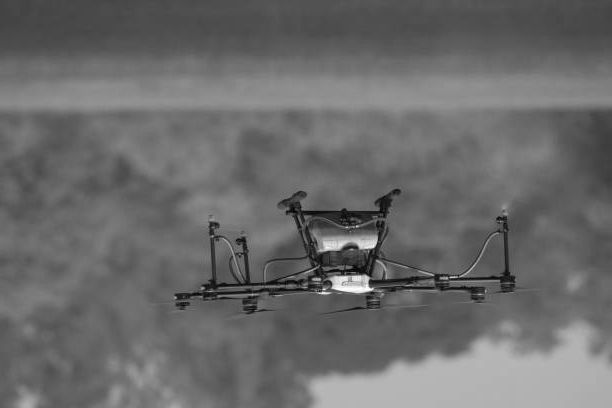Drone: (158, 185, 541, 324)
